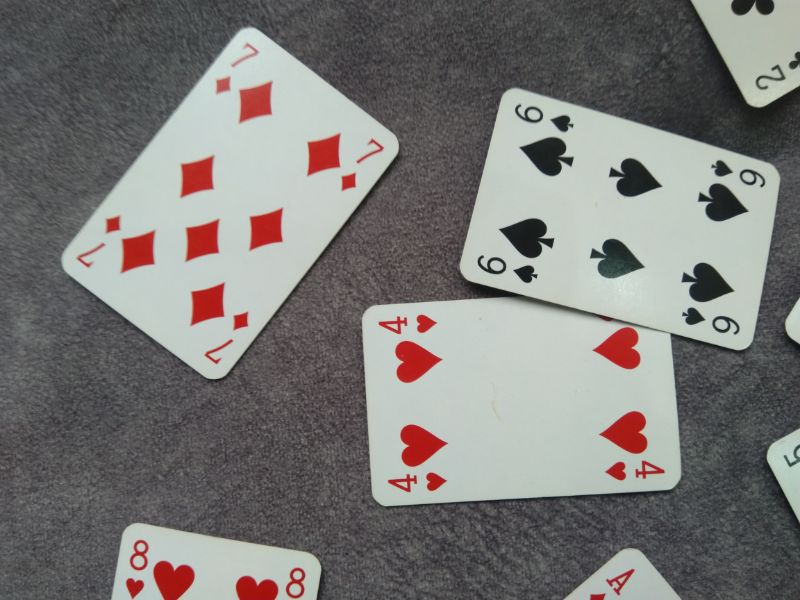4h: (602, 454, 669, 484), (385, 469, 452, 497), (376, 309, 438, 338)
6s: (474, 251, 542, 287), (510, 100, 576, 135), (707, 156, 769, 190), (680, 305, 743, 337)
7d: (204, 307, 251, 366), (337, 137, 386, 193), (212, 40, 259, 97), (77, 213, 123, 271)
8h: (122, 537, 151, 600)
